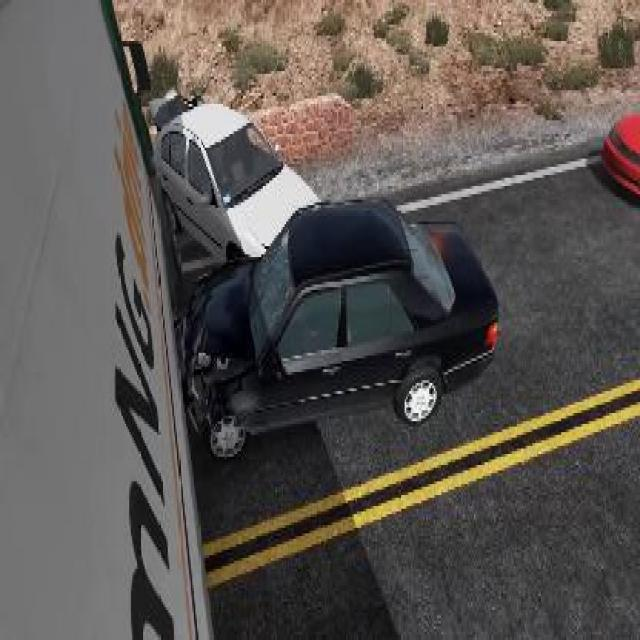accident: (0, 0, 503, 637), (149, 74, 500, 484)
